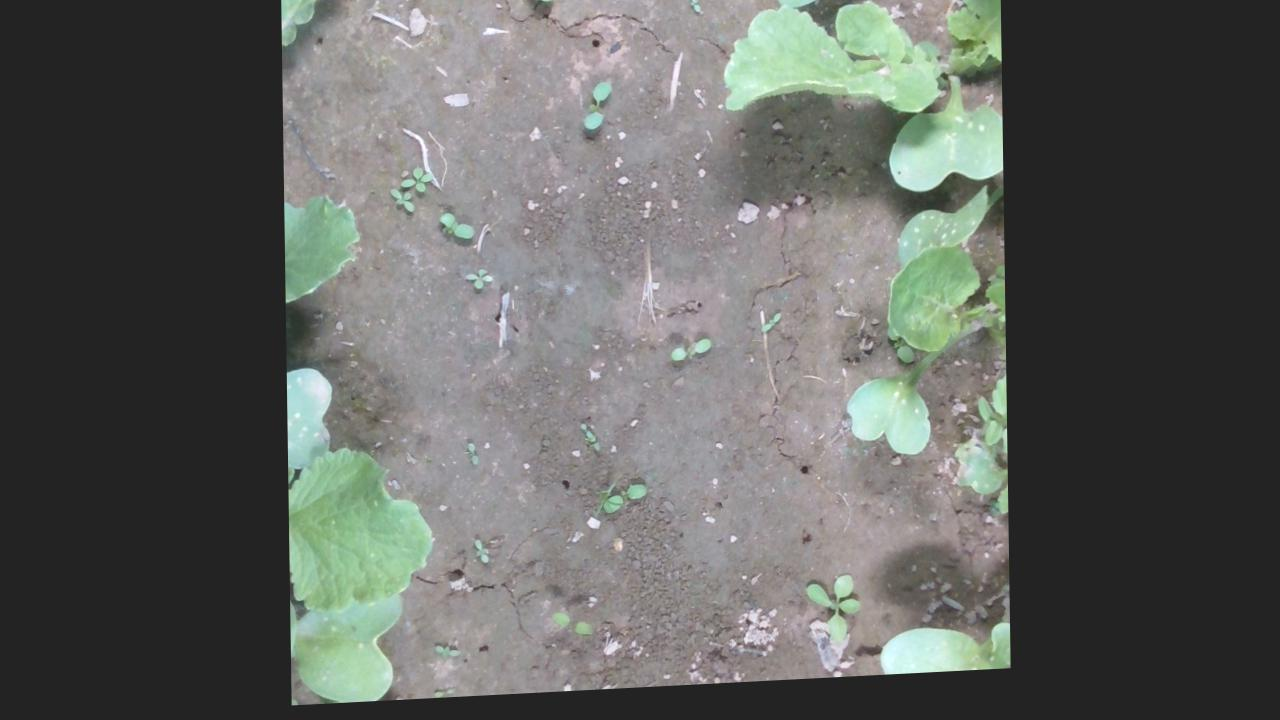weed: (802, 580, 861, 653), (581, 80, 616, 139), (434, 213, 476, 248), (546, 614, 593, 642), (667, 344, 715, 370), (464, 268, 494, 293), (759, 316, 782, 342), (431, 645, 459, 663), (464, 443, 480, 473), (473, 541, 488, 570), (429, 690, 456, 702)
